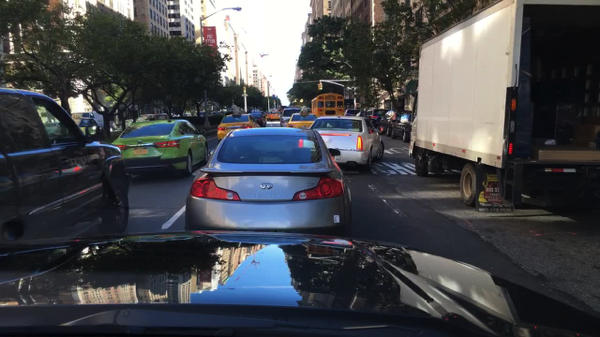bus: (310, 93, 345, 118)
car: (1, 84, 130, 251), (185, 127, 352, 235), (111, 119, 211, 183), (308, 116, 384, 175), (216, 114, 261, 142), (389, 110, 418, 143), (287, 106, 320, 130), (374, 108, 400, 136), (280, 106, 309, 128), (362, 108, 387, 130), (136, 113, 168, 124), (247, 112, 267, 128), (224, 109, 246, 116), (253, 111, 267, 121), (356, 109, 370, 119), (345, 108, 359, 117), (271, 111, 282, 121), (210, 110, 224, 117), (123, 119, 133, 127), (266, 112, 273, 120), (197, 112, 208, 117)
traffic light: (317, 82, 320, 89), (320, 83, 323, 89), (243, 87, 246, 92)
traffic sign: (241, 94, 248, 97)
truck: (409, 0, 599, 212)
